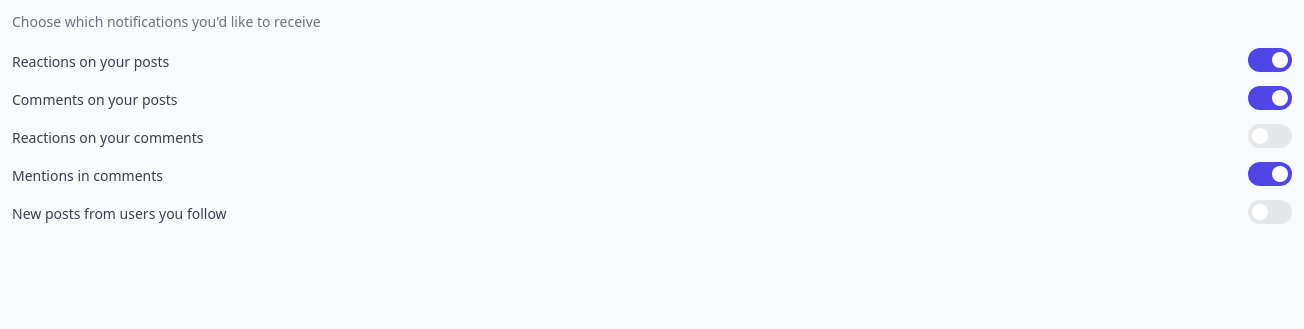
Test: NotificationPreferences Component › displays error message when update fails
Click a toggle
Click the switch named "Reactions on your posts" in the row of "Reactions on your posts".
click(1270, 60)  # box [1248, 48, 1292, 72]
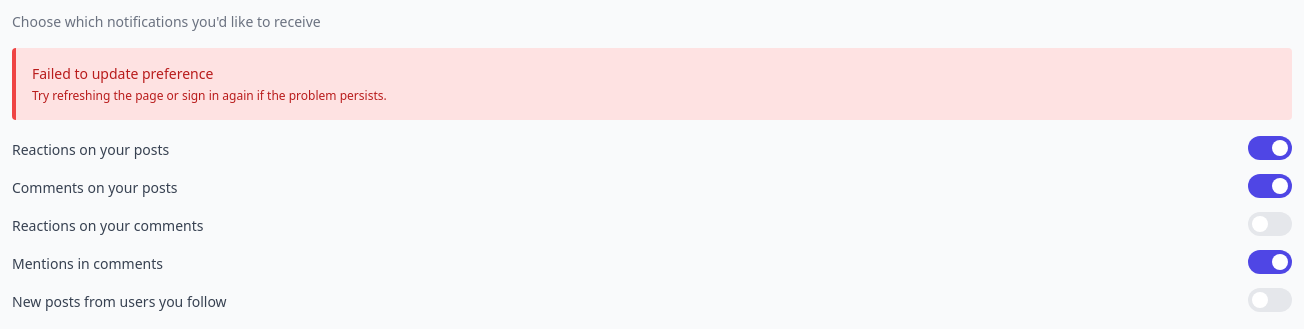
Result: the text "Failed to update preference" is shown at [32, 64, 213, 83]
